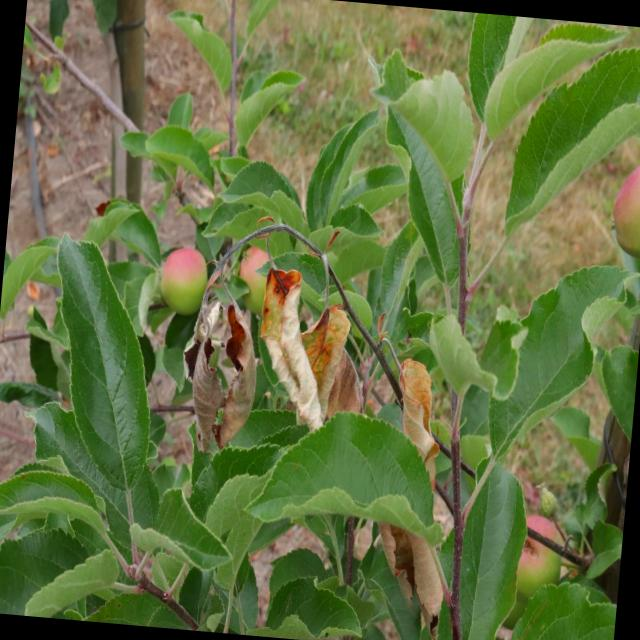-FireBlight-: (250, 245, 330, 424), (185, 270, 261, 450), (367, 511, 456, 632), (299, 320, 373, 434), (384, 331, 442, 469)
